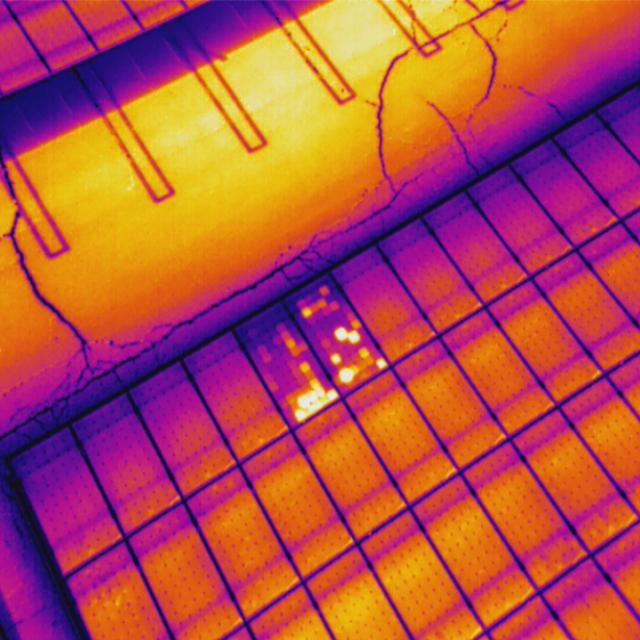hotspot group: (294, 376, 339, 423), (336, 362, 358, 386), (335, 326, 360, 344), (300, 305, 314, 318), (376, 357, 388, 370), (332, 353, 342, 364)
panel with hotspots: (233, 300, 343, 430), (285, 272, 391, 398)
